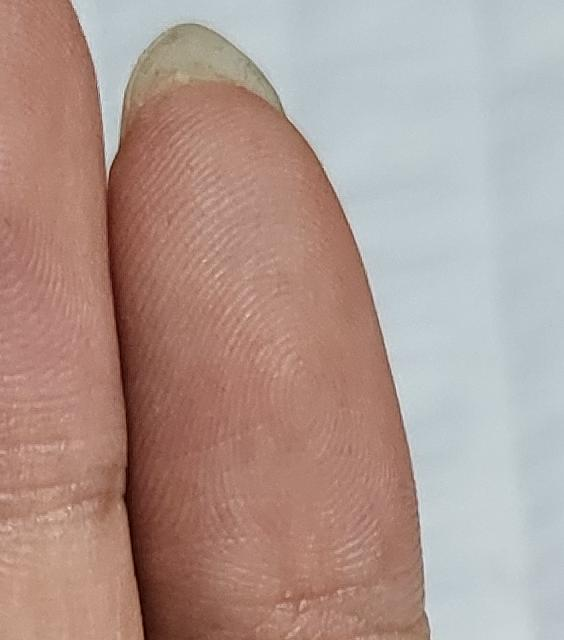Fingerprints: (107, 77, 426, 631)
